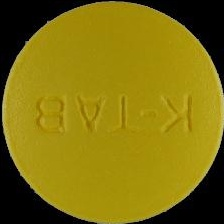68382-776: (0, 0, 224, 224)
